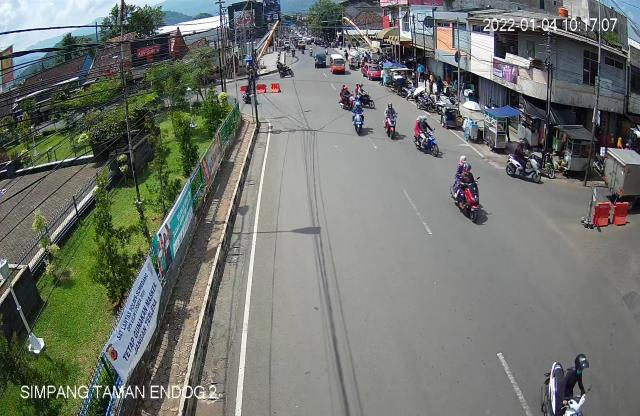Motor: (539, 349, 591, 416), (507, 137, 556, 191), (450, 154, 484, 225), (413, 112, 441, 160), (353, 80, 375, 109), (351, 98, 368, 135), (384, 102, 400, 140), (339, 83, 357, 112)
Truk: (602, 147, 640, 214)
